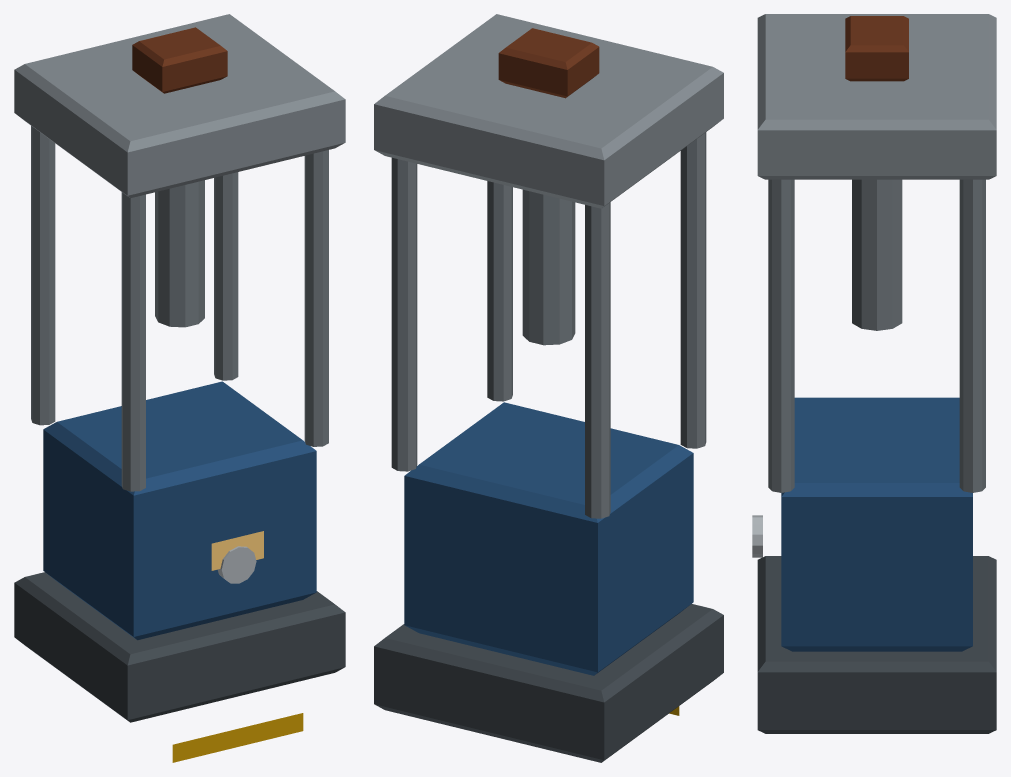
File: decor_2.fbx
3 renders of one model, left to right at view 1: azimuth 30°, elevation 25°; view 2: azimuth 150°, elevation 25°; view 3: azimuth 270°, elevation 25°, orthographic. The views are drawn at different scales.
Visible parts, largest first — view 1: decor_2; view 2: decor_2; view 3: decor_2.
Boxes of the visible parts, <box> form: decor_2: <box>14,14,345,762</box>; decor_2: <box>374,14,723,762</box>; decor_2: <box>752,14,996,733</box>.
Size of the model in its own units: 1 by 2.9 by 0.92.
